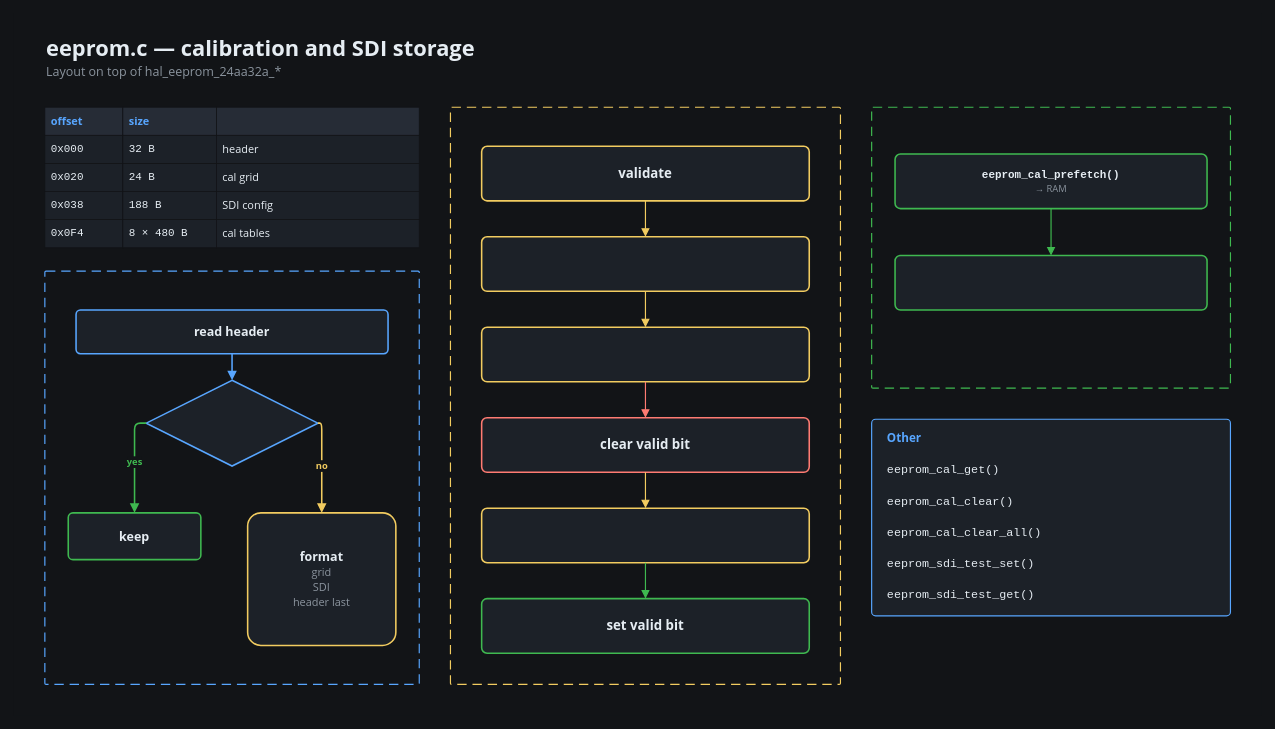
Image size: 1275x729. Some labels were removed from this diagram. The shapes that lost their labels are listed below. From the top down, each one's box as (x1, y1, x2, y2) in pixels, then its label:
(480, 236, 810, 292): read grid
(871, 106, 1231, 388): Sweep read path
(894, 254, 1207, 310): eeprom_interpolate_cached()
(480, 326, 810, 382): resample → 240
(450, 106, 841, 685): eeprom_cal_set()
(145, 379, 318, 466): valid?
(44, 270, 419, 685): eeprom_init()
(480, 507, 810, 563): write table
